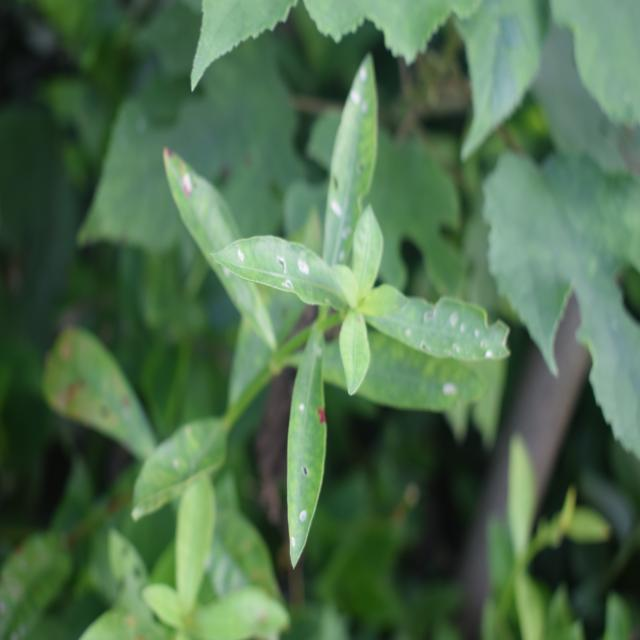Alligatorweed: (164, 91, 501, 515)
